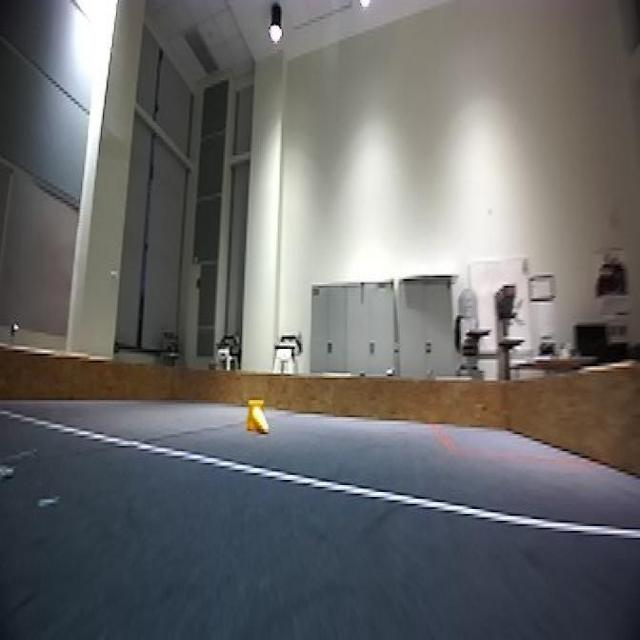frc_cone: (246, 398, 268, 434)
